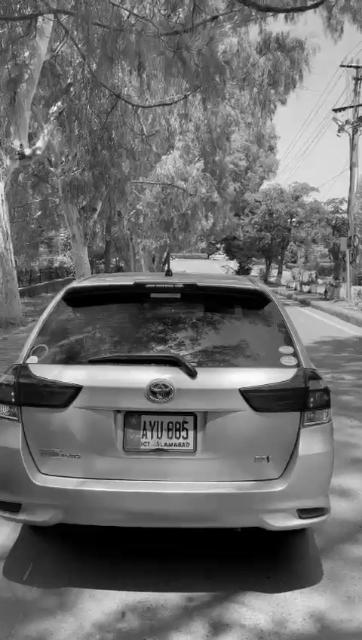Number: (140, 421, 192, 442)
